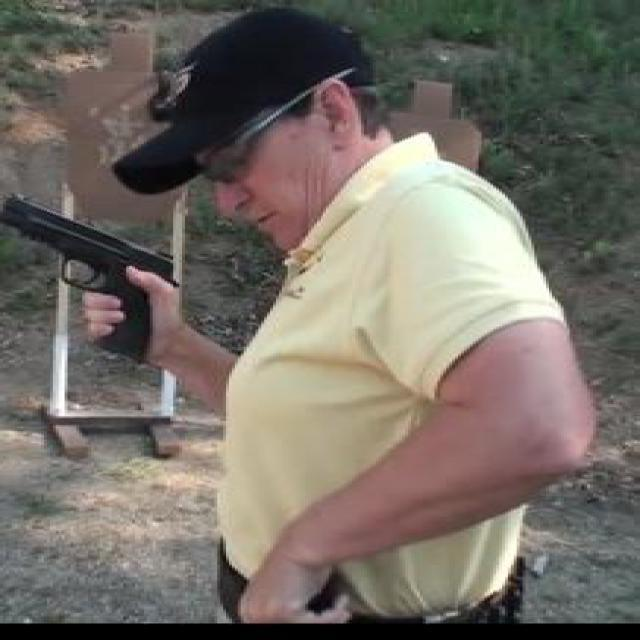gun: (2, 189, 174, 358)
